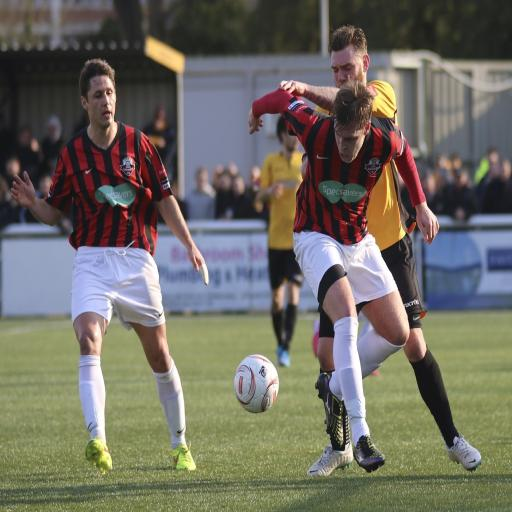Person: (4, 95, 229, 431), (263, 102, 487, 438), (289, 68, 512, 404)
no_boots: (305, 387, 355, 429), (347, 386, 397, 428), (438, 384, 488, 426), (165, 381, 215, 423), (70, 384, 119, 426)
no_gloves: (406, 214, 441, 250), (238, 136, 273, 172), (6, 190, 42, 224), (274, 112, 309, 146), (182, 248, 216, 282)
no_goggle: (328, 108, 364, 120), (87, 125, 122, 137), (334, 162, 368, 174)
no_helmet: (68, 98, 116, 123), (327, 131, 375, 155), (324, 79, 372, 103)
none: (57, 165, 165, 260), (295, 152, 386, 250)
